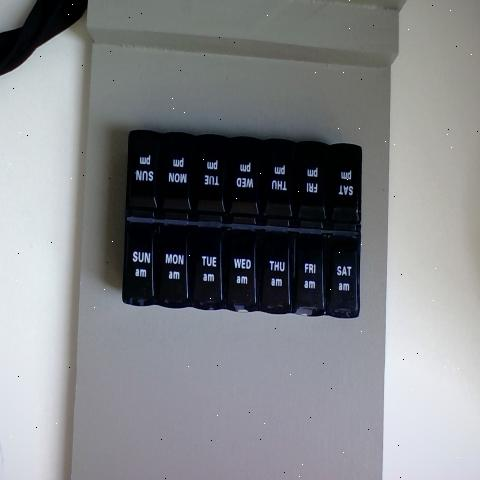FRI-am: (291, 233, 323, 316)
FRI-pm: (296, 146, 327, 226)
MON-am: (156, 227, 190, 308)
MON-pm: (160, 134, 196, 218)
PillBox: (105, 114, 374, 352)
SAT-am: (324, 235, 359, 316)
SAT-pm: (328, 145, 362, 228)
SUN-am: (123, 225, 155, 303)
SUN-pm: (128, 132, 160, 218)
THU-am: (257, 235, 290, 317)
THU-pm: (263, 144, 297, 230)
TUE-am: (192, 228, 223, 314)
TUE-pm: (197, 138, 229, 218)
WED-am: (225, 231, 256, 313)
WED-pm: (228, 145, 264, 223)
